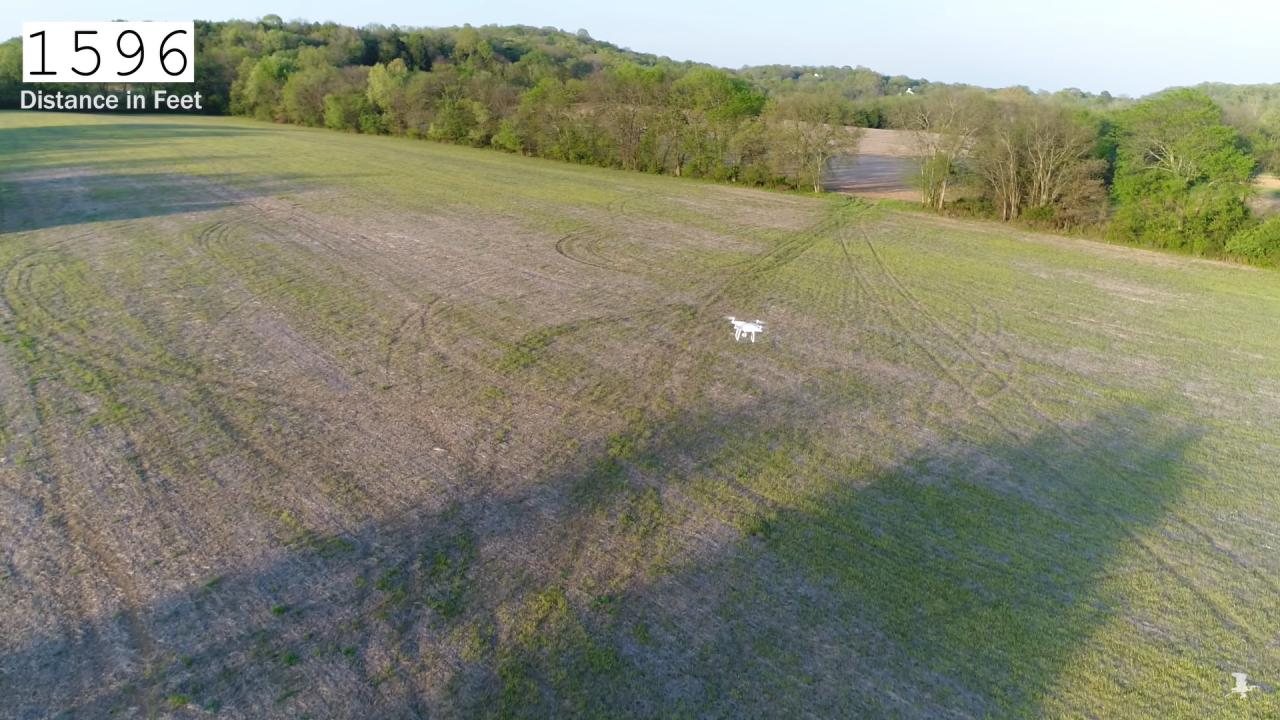Drone: (717, 306, 772, 352)
